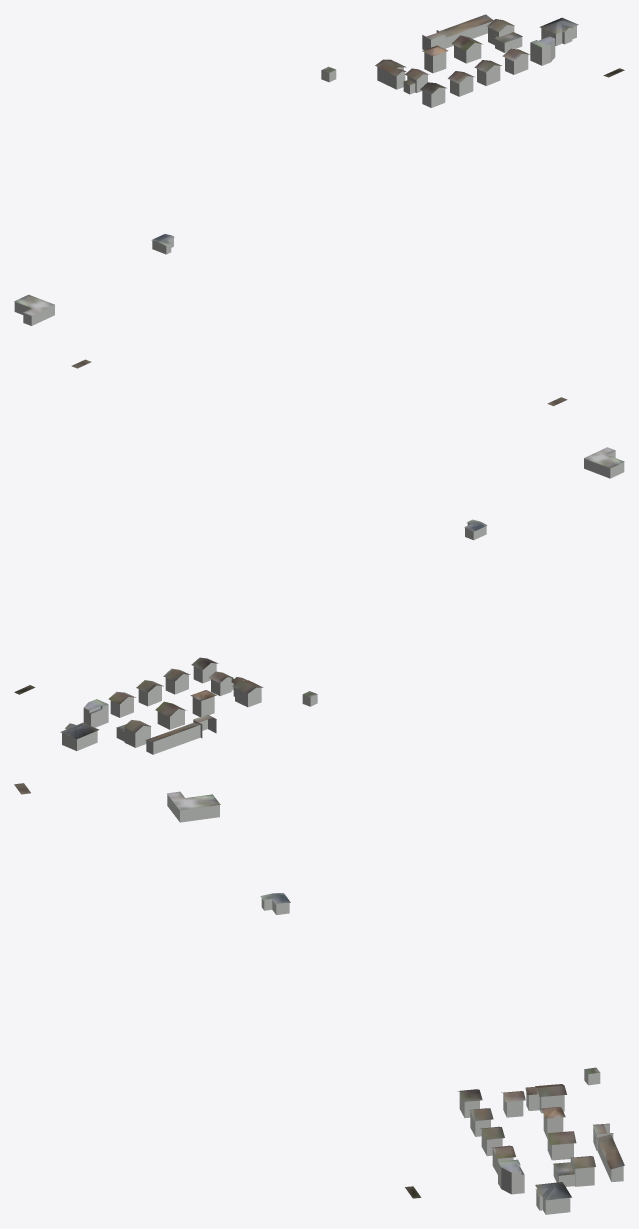
Rendered from LSGS_-1_0.glb.
The picture shows the model from 3 angles, top to bottom: view 1: azimuth 30°, elevation 25°; view 2: azimuth 210°, elevation 25°; view 3: azimuth 270°, elevation 25°; orthographic projection. The views are drawn at different scales.
Visible parts, largest first — view 1: building_771bdf3e3b3c5246, building_f6fa1ded4fe91645, building_85e6f039049fbe6c, building_7e8743883b5c8bc6; view 2: building_771bdf3e3b3c5246, building_f6fa1ded4fe91645, building_85e6f039049fbe6c, building_7e8743883b5c8bc6; view 3: building_771bdf3e3b3c5246, building_f6fa1ded4fe91645, building_85e6f039049fbe6c, building_7e8743883b5c8bc6.
Boxes of the visible parts, left/top/right/bottom form: building_771bdf3e3b3c5246: left=321, top=21, right=622, bottom=107; building_f6fa1ded4fe91645: left=322, top=14, right=624, bottom=94; building_85e6f039049fbe6c: left=14, top=238, right=173, bottom=325; building_7e8743883b5c8bc6: left=14, top=233, right=174, bottom=315; building_771bdf3e3b3c5246: left=17, top=663, right=317, bottom=754; building_f6fa1ded4fe91645: left=14, top=657, right=316, bottom=741; building_85e6f039049fbe6c: left=465, top=451, right=624, bottom=540; building_7e8743883b5c8bc6: left=464, top=447, right=624, bottom=531; building_771bdf3e3b3c5246: left=406, top=1069, right=623, bottom=1214; building_f6fa1ded4fe91645: left=405, top=1067, right=624, bottom=1200; building_85e6f039049fbe6c: left=167, top=794, right=289, bottom=914; building_7e8743883b5c8bc6: left=167, top=791, right=290, bottom=904.
Size of the model in its own units: 449 by 13.09 by 275.
2 materials, 1 textured.
